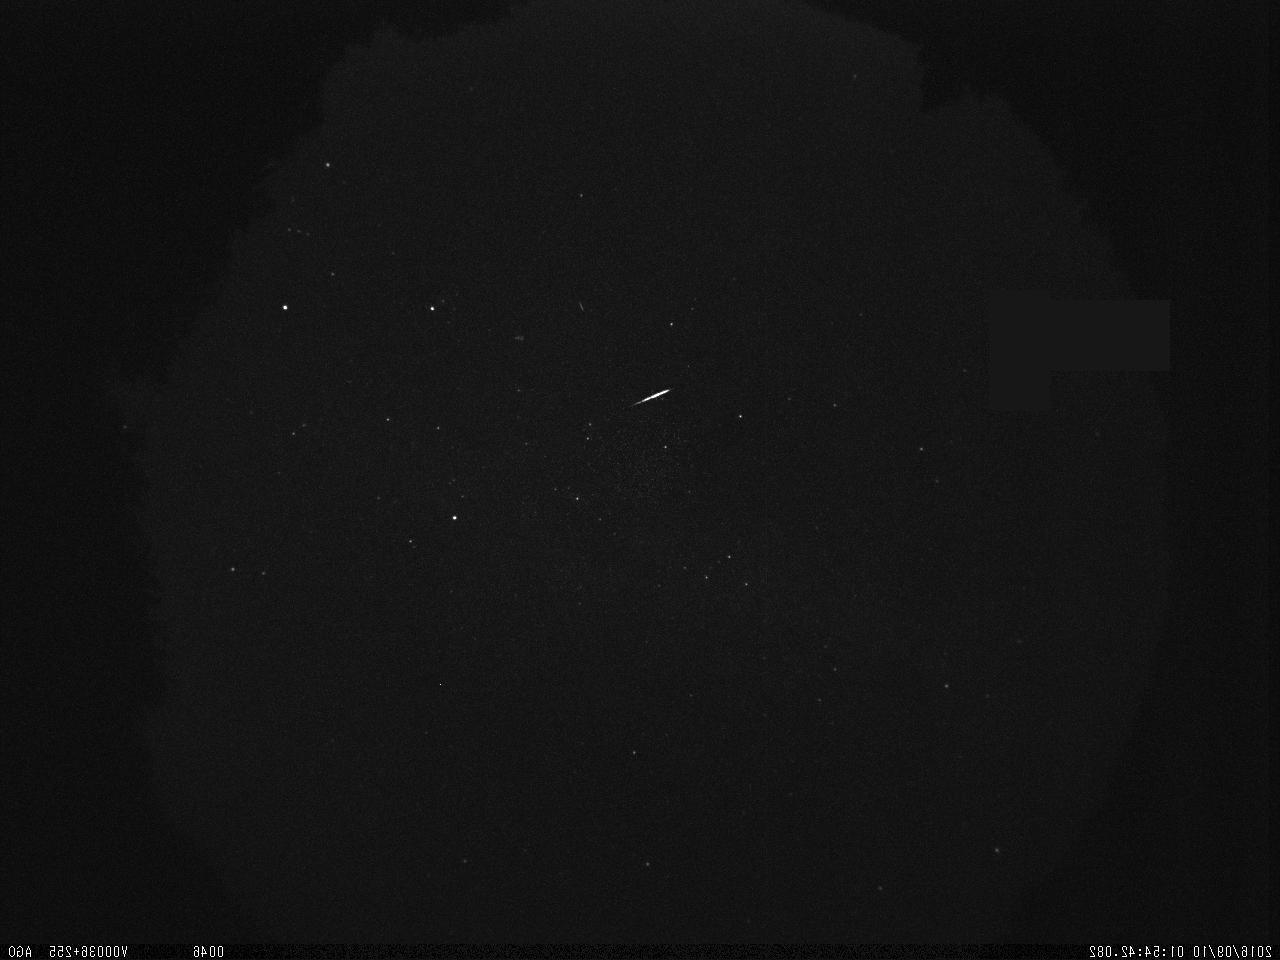meteor: (624, 370, 682, 424)
